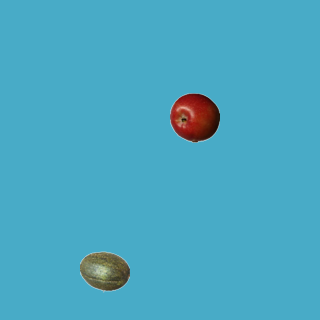Apple Braeburn: (169, 92, 219, 142)
Melon Piel de Sapo: (79, 246, 129, 296)
